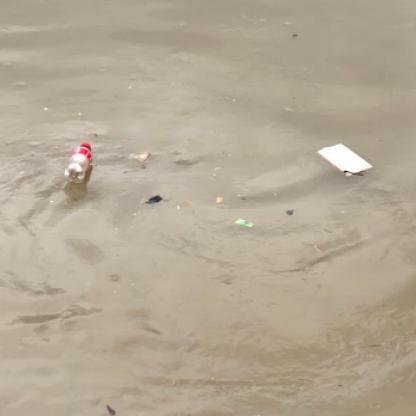foam: (318, 142, 373, 176)
plastic bag: (66, 142, 92, 182)
